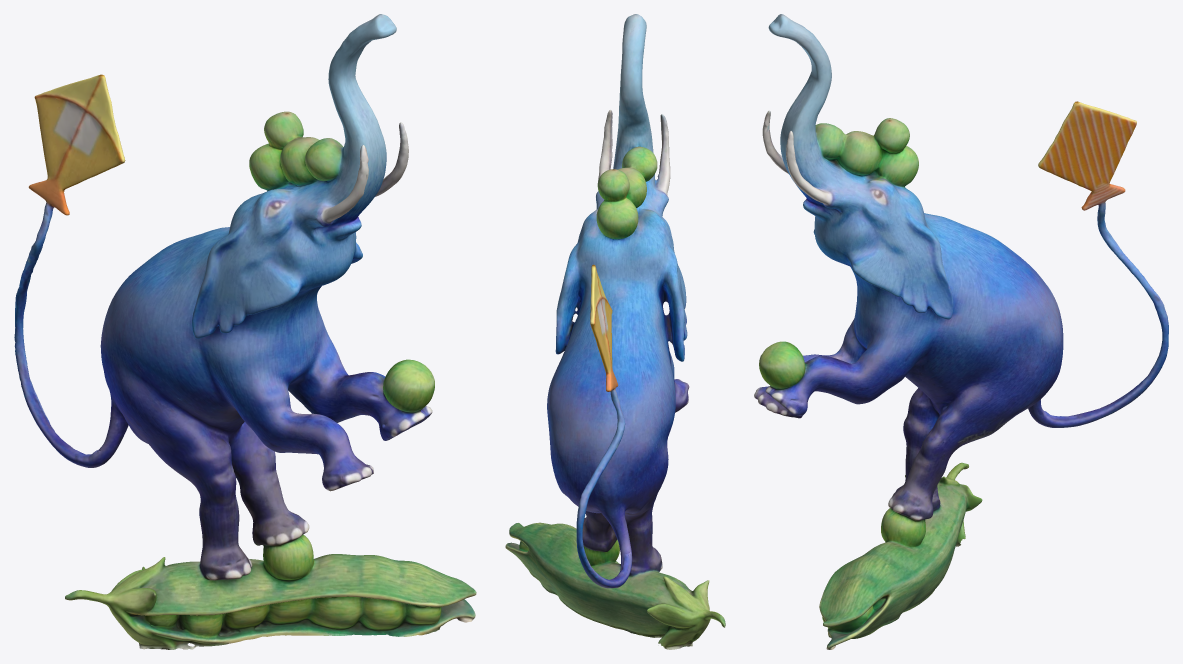
Rendered from sugandh-meri-patang.glb.
3 views of the same model, side by side, from view 1: azimuth 30°, elevation 25°; view 2: azimuth 150°, elevation 25°; view 3: azimuth 270°, elevation 25° (orthographic). The views are drawn at different scales.
Visible parts, largest first — view 1: Mesh; view 2: Mesh; view 3: Mesh.
Part boxes in pixels (x1=…): Mesh: x1=14, y1=14, x2=476, y2=649; Mesh: x1=505, y1=14, x2=725, y2=649; Mesh: x1=754, y1=14, x2=1168, y2=649.
Size of the model in its own units: 23.35 by 44.18 by 28.19.
Materials: 1 (1 with a texture image).
